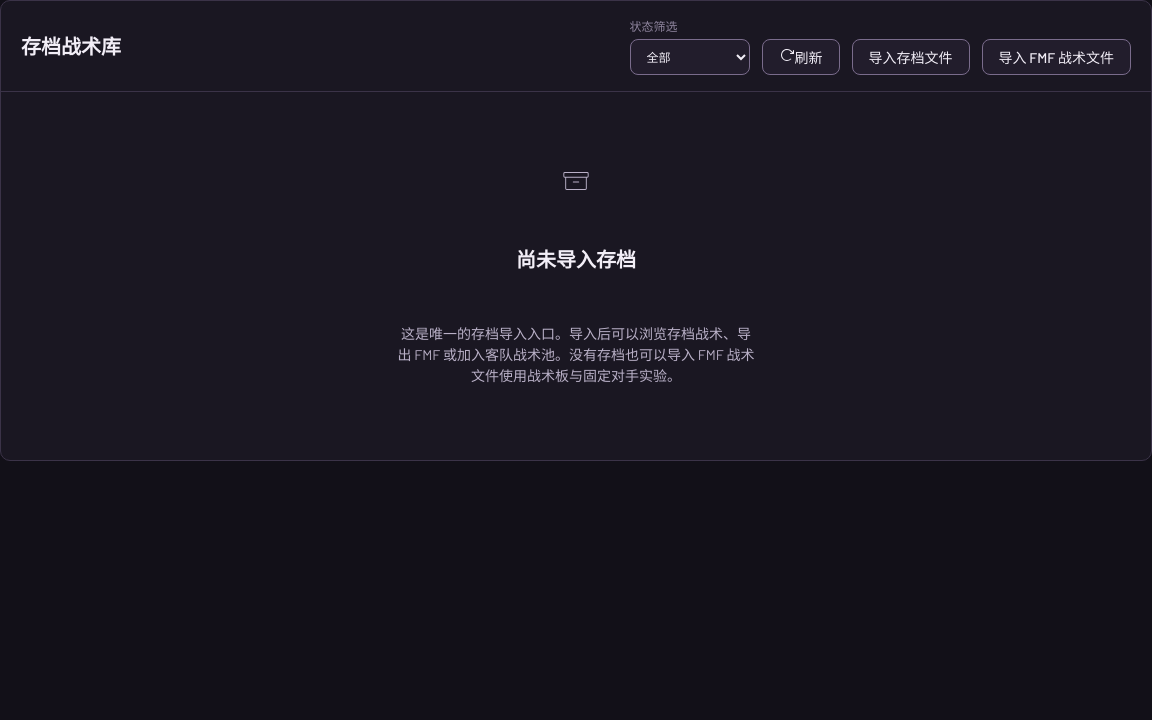
存档文件导入 › 校验存档路径后提交 source_path，成功后展示存档标识、状态与经理俱乐部
The image size is (1152, 720).
Expected: the heading "尚未导入存档" is shown, [516,244,636,274]
Click the button "导入存档文件" at (911, 57), box [852,39,970,75]
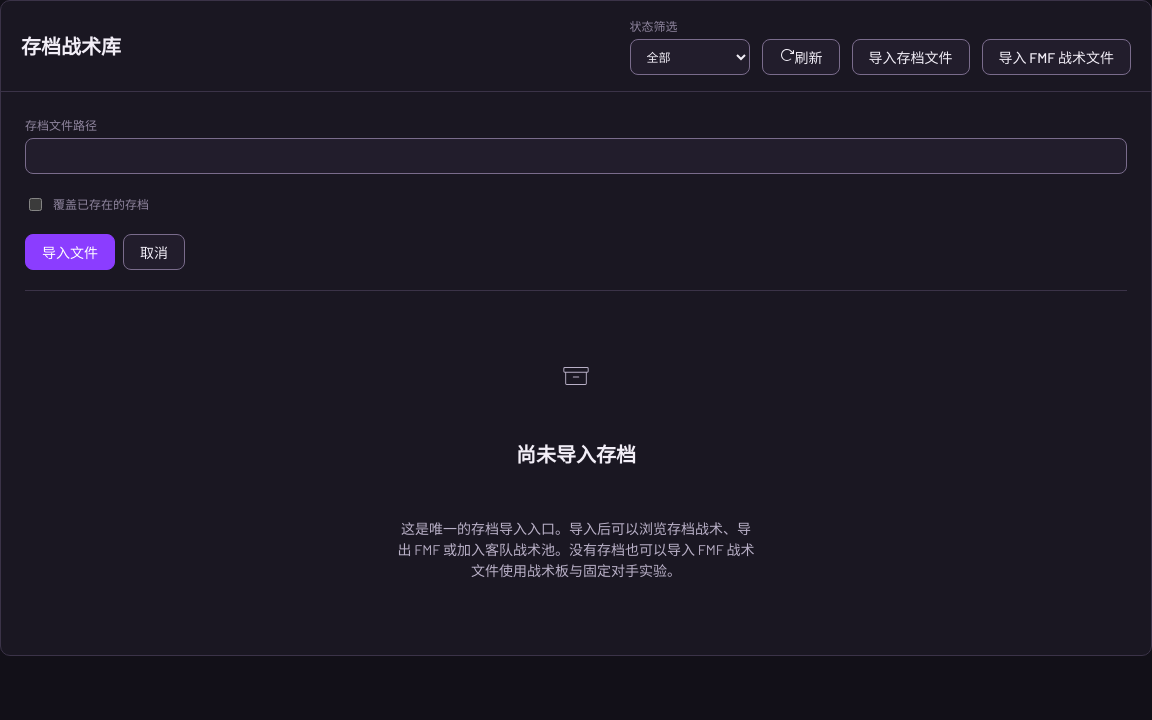
Click the button "导入文件" at (70, 252), box [25,234,115,270]
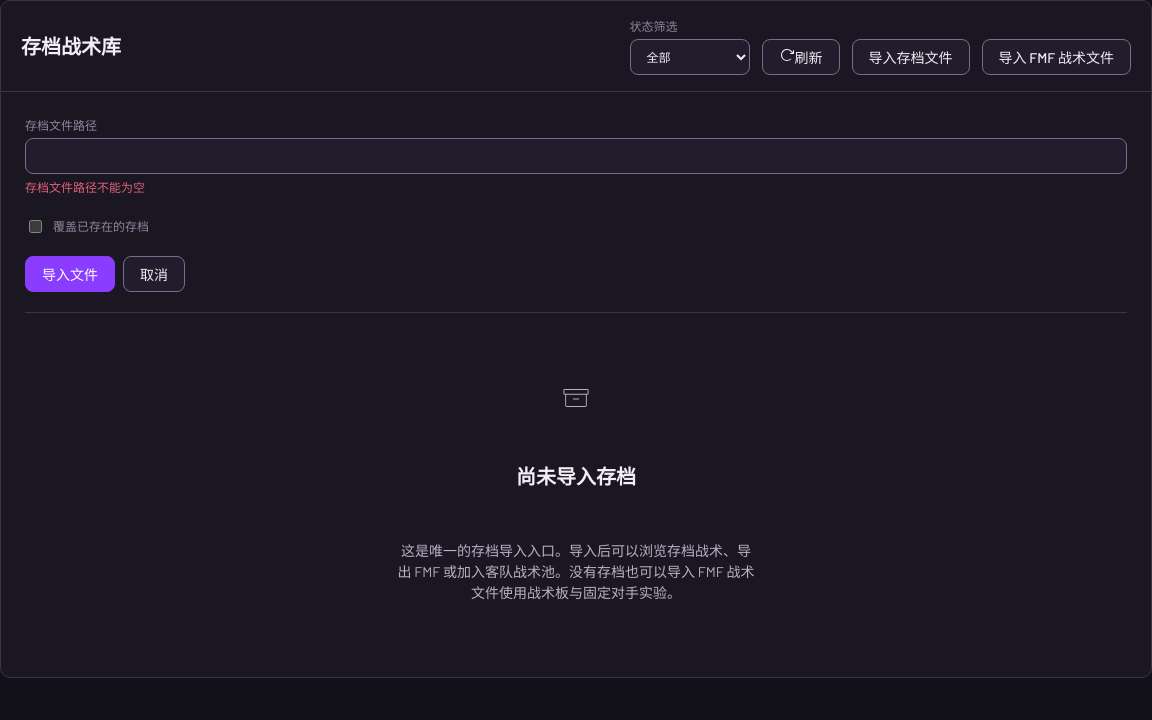
Result: the text "存档文件路径不能为空" is shown at [25,180,145,194]
Type "/saves/season-2.fm" into the field labelled "存档文件路径" at (576, 156), box [25,138,1127,174]
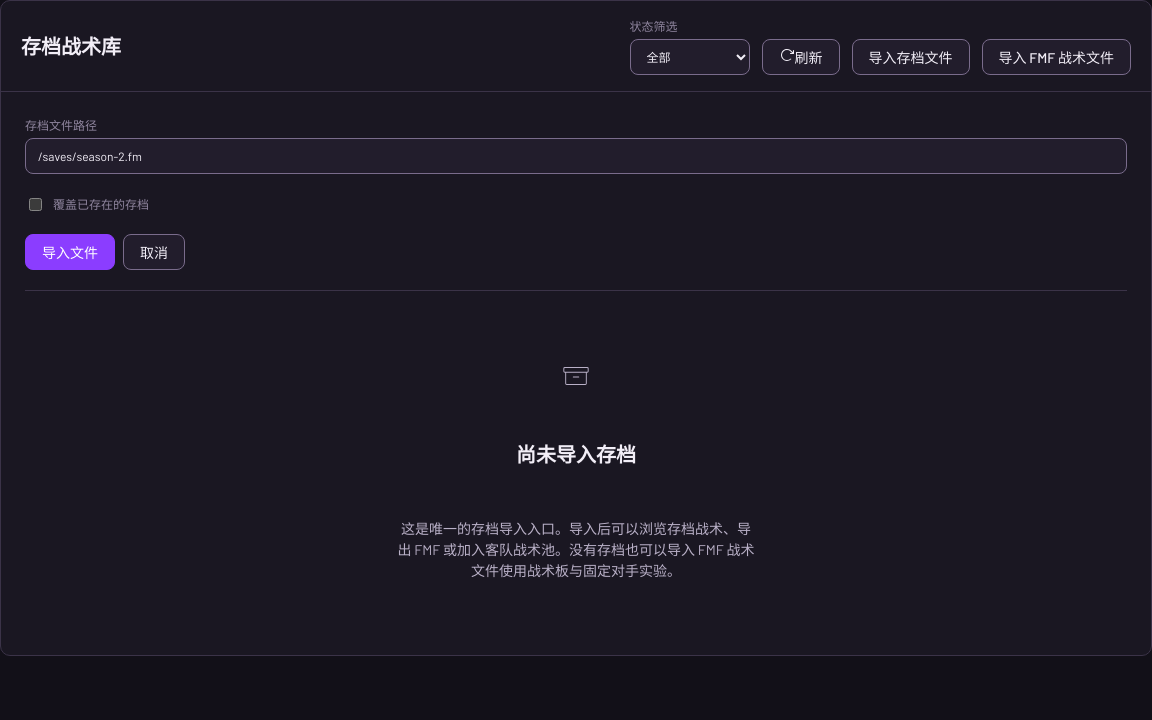
Click the button "导入文件" at (70, 252), box [25,234,115,270]
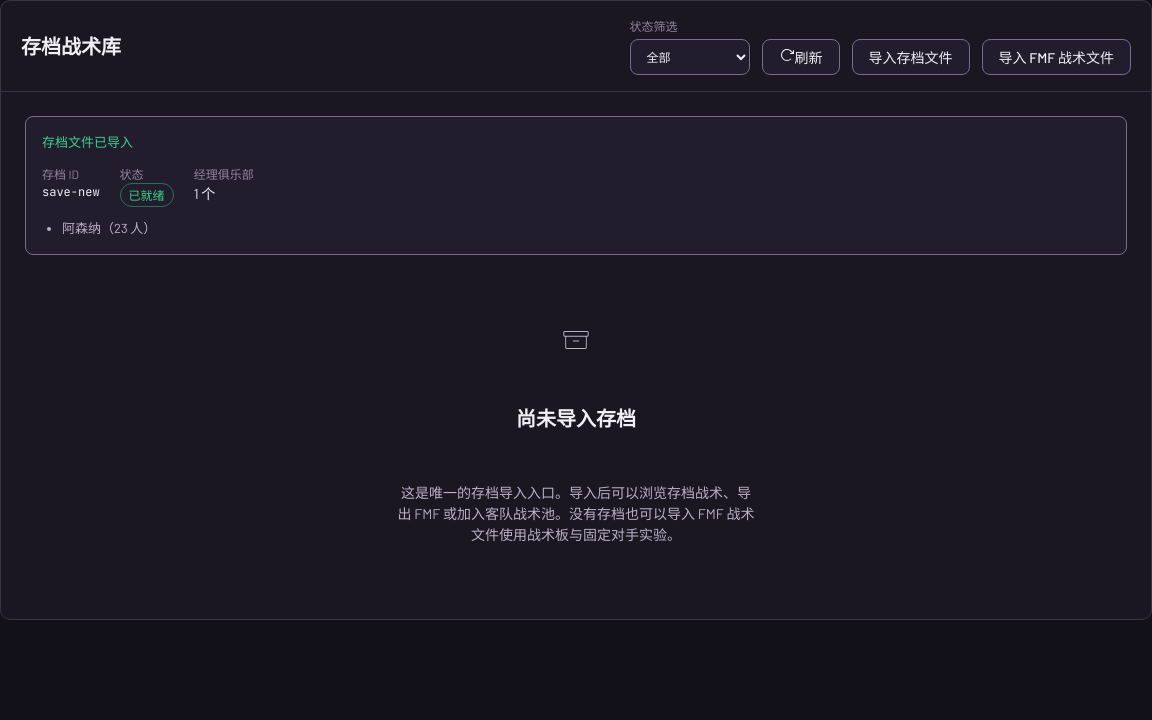
Result: the text "save-new" is shown at [42,182,100,200]
Result: the text "已就绪" is shown at [120,182,174,206]
Result: the list item "阿森纳（23 人）" is shown at [62,220,156,236]
